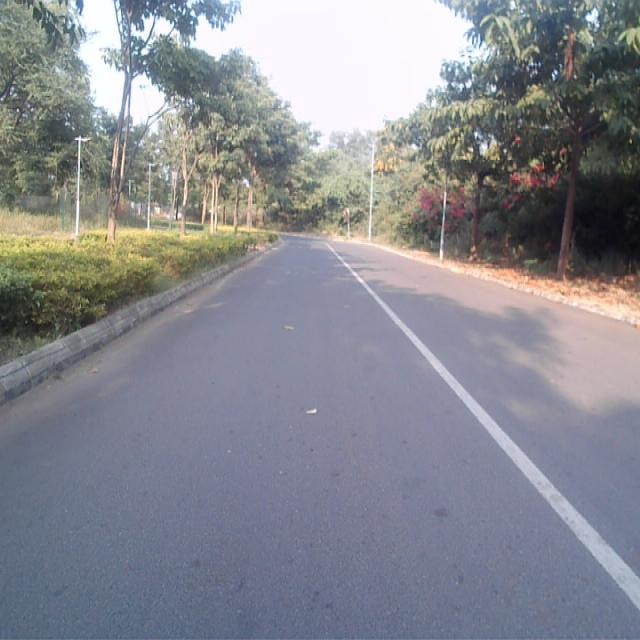lane: (0, 239, 640, 640)
